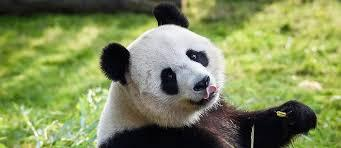Non_Gorille: (86, 4, 293, 148)
